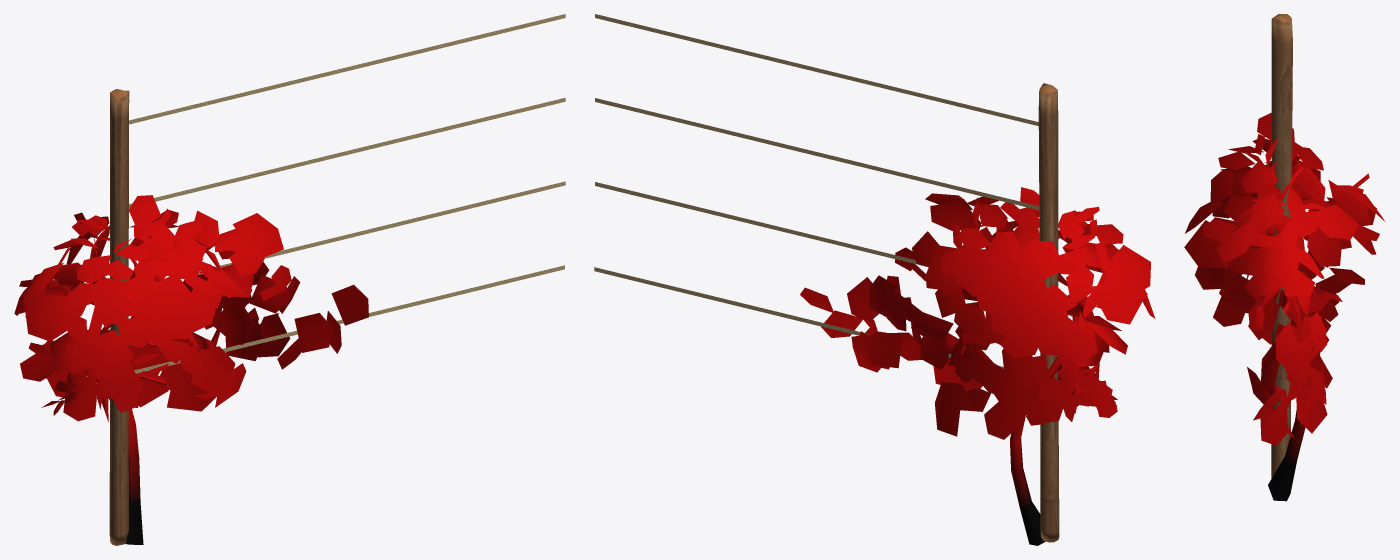
Rendered from SM_Farm_GrapevineMedium_02.fbx.
3 views of the same model, side by side, from view 1: azimuth 30°, elevation 25°; view 2: azimuth 150°, elevation 25°; view 3: azimuth 270°, elevation 25° (orthographic). The views are drawn at different scales.
Parts seen in each view (by area): view 1: SM_Farm_GrapevineMedium_02_LOD0; view 2: SM_Farm_GrapevineMedium_02_LOD0; view 3: SM_Farm_GrapevineMedium_02_LOD0.
Boxes of the visible parts, x1,y1,x2,y2 form: SM_Farm_GrapevineMedium_02_LOD0: (14,14,565,545); SM_Farm_GrapevineMedium_02_LOD0: (594,14,1155,545); SM_Farm_GrapevineMedium_02_LOD0: (1184,14,1384,501).
Size of the model in its own units: 182 by 146 by 55.77.
